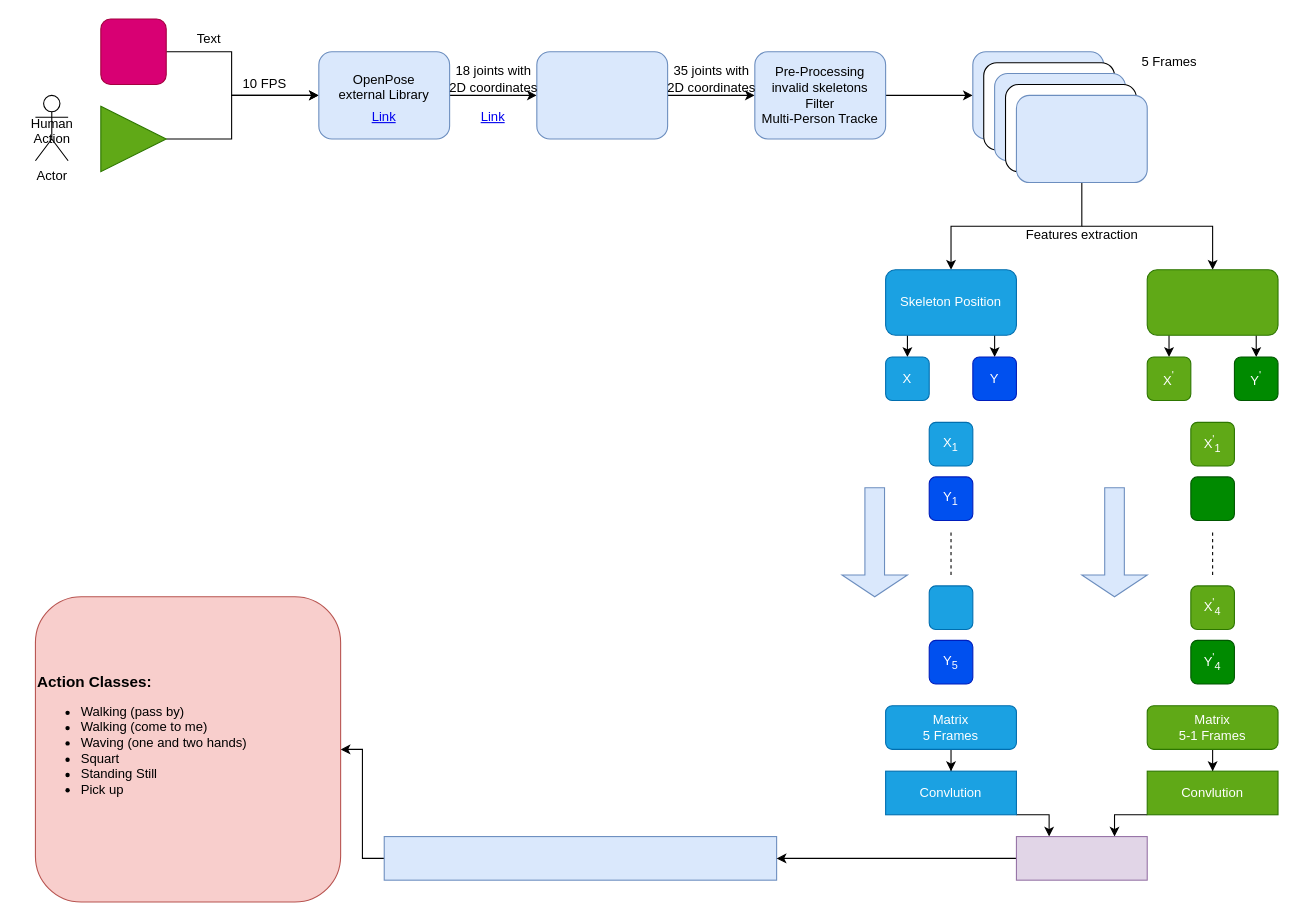
Image size: 1297x921. Some labels were removed from this diagram. The shapes that lost their labels are listed below. From the top down, each one's centre as x and y in pixels, then its label:
the point at 133,51: Dataset
the point at 602,95: Reshaping/ Reconstruction
the point at 133,138: Camera
the point at 1081,138: Skeletons Matrix
the point at 1212,302: Skeleton Motion
the point at 1212,498: Y ' 1
the point at 950,607: X 5
the point at 580,857: Fully Connected Layer
the point at 1081,857: Concat
